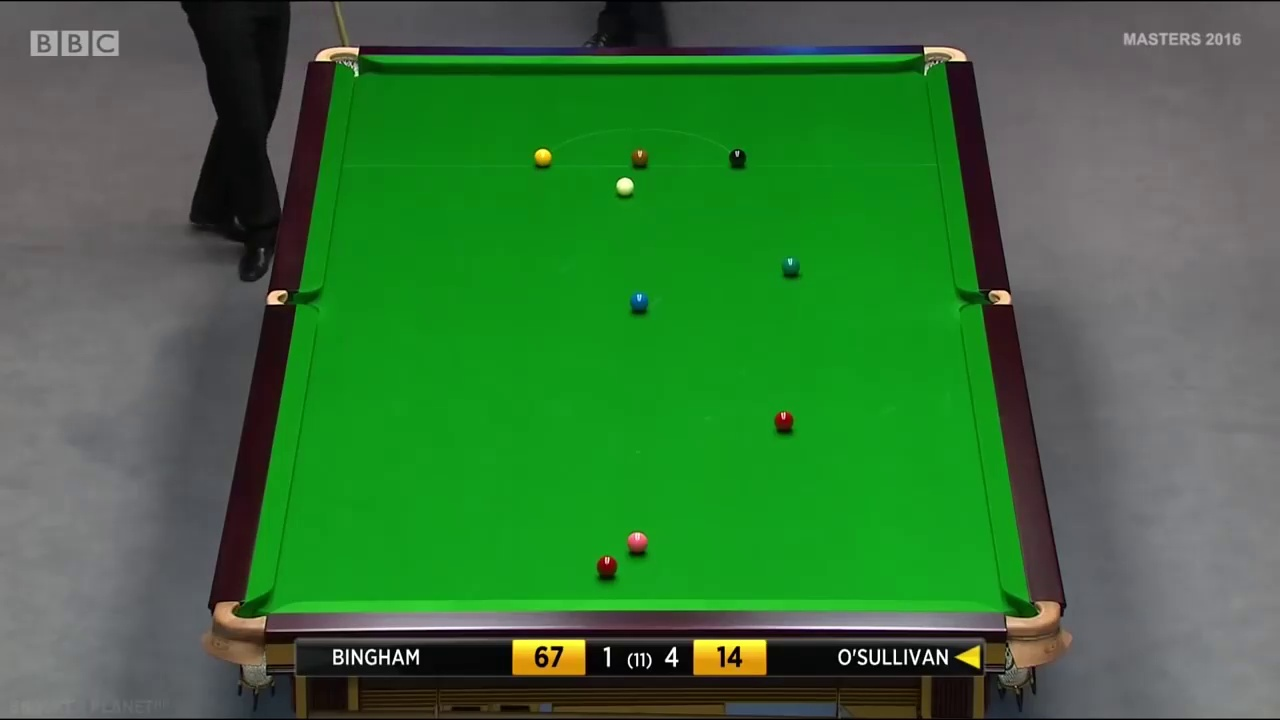ball: (726, 145, 749, 170), (625, 529, 648, 552), (594, 555, 617, 578), (613, 177, 636, 199), (780, 255, 800, 278), (532, 147, 555, 166), (776, 411, 794, 433), (632, 148, 646, 165)
